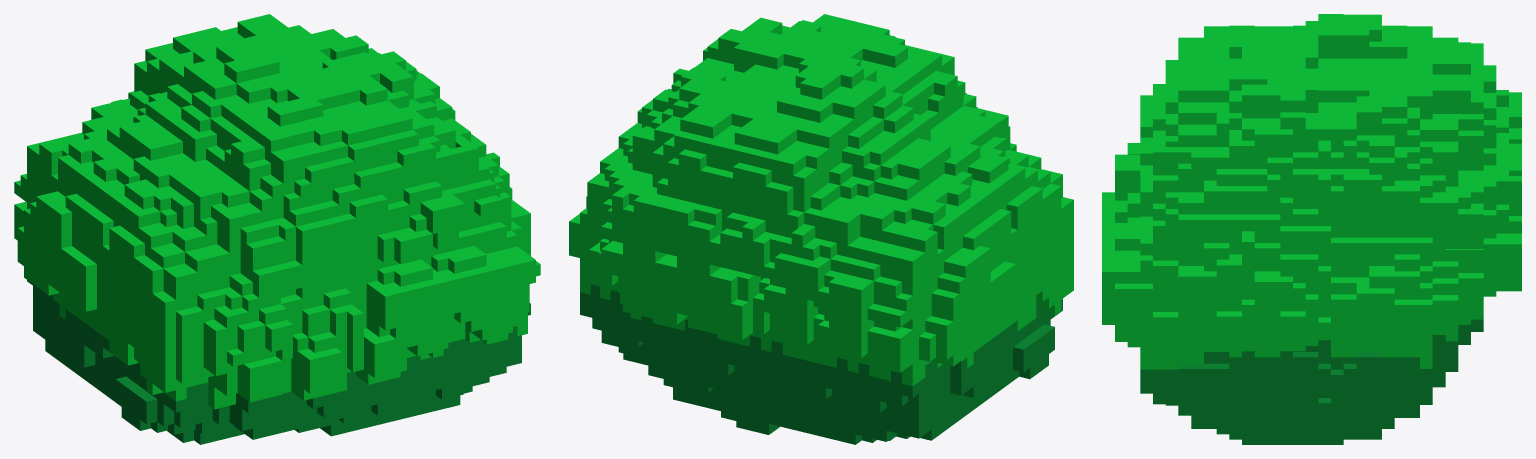
File: canopy_3.dae
3 views of the same model, side by side, from view 1: azimuth 30°, elevation 25°; view 2: azimuth 150°, elevation 25°; view 3: azimuth 270°, elevation 25° (orthographic). The views are drawn at different scales.
Parts seen in each view (by area): view 1: canopy_3; view 2: canopy_3; view 3: canopy_3.
Boxes of the visible parts, x1,y1,x2,y2 form: canopy_3: (14,14,540,444); canopy_3: (569,14,1073,444); canopy_3: (1102,14,1521,444).
Size of the model in its own units: 10.8 by 9.9 by 8.7.
Materials: 1 (1 with a texture image).
